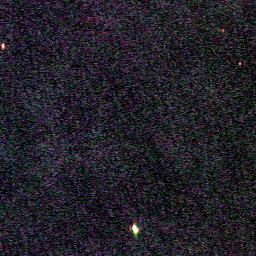Ship: (129, 220, 141, 239), (1, 42, 8, 52)
